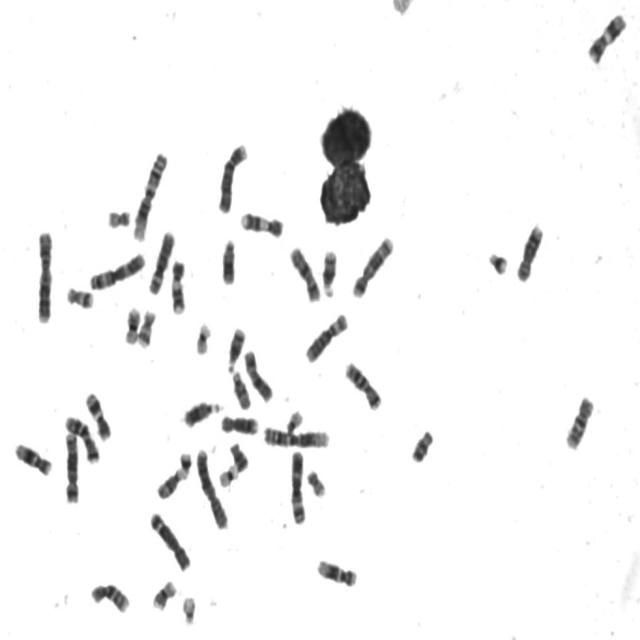A1: (130, 146, 170, 242), (260, 422, 332, 451)
A2: (193, 443, 231, 531), (33, 224, 56, 324)
A3: (87, 247, 147, 291), (288, 446, 309, 526)
B4: (147, 507, 193, 573), (214, 137, 250, 215)
B5: (349, 230, 396, 299), (62, 428, 82, 505)
C10: (562, 390, 596, 452), (88, 577, 132, 615)
C11: (585, 7, 629, 66), (82, 387, 113, 442)
C12: (11, 437, 54, 477), (313, 554, 360, 588)
C6: (302, 307, 350, 364), (146, 226, 178, 296)
C7: (341, 356, 384, 413), (61, 410, 102, 466)
C8: (514, 219, 546, 283), (218, 410, 261, 436)
C9: (238, 206, 286, 239), (168, 256, 188, 316)
D13: (180, 395, 223, 429), (218, 233, 238, 286)
D14: (224, 322, 248, 375), (320, 244, 340, 298)
D15: (229, 366, 253, 411), (155, 464, 185, 500)
E16: (149, 575, 179, 612), (121, 302, 143, 346)
E17: (135, 304, 158, 348), (63, 281, 96, 310)
E18: (409, 423, 436, 465), (227, 437, 251, 473)
F19: (192, 316, 214, 357), (216, 459, 242, 488)
F20: (304, 465, 328, 499), (104, 203, 133, 229)
G21: (485, 245, 511, 277), (177, 447, 194, 480)
G22: (179, 590, 198, 628), (283, 405, 306, 434)
X: (286, 241, 322, 304), (241, 344, 276, 404)
